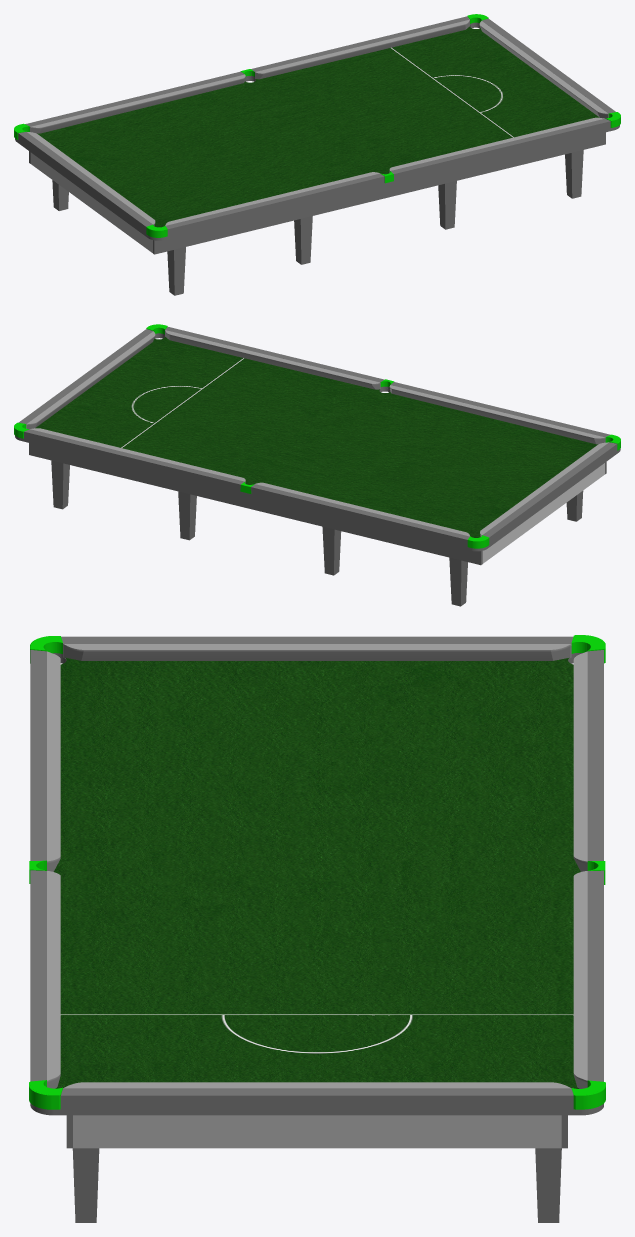
File: table.fbx
The picture shows the model from 3 angles, top to bottom: view 1: azimuth 30°, elevation 25°; view 2: azimuth 150°, elevation 25°; view 3: azimuth 270°, elevation 25°; orthographic projection. The views are drawn at different scales.
Parts seen in each view (by area): view 1: tablesurface, polySurface8, sidewall, polySurface4, holedimmer; view 2: tablesurface, polySurface8, sidewall, polySurface4, holedimmer; view 3: tablesurface, polySurface8, sidewall, polySurface6, holedimmer.
Boxes of the visible parts, x1,y1,x2,y2 form: tablesurface: (37, 25, 599, 227); polySurface8: (15, 16, 619, 295); sidewall: (27, 19, 608, 225); polySurface4: (30, 152, 152, 252); holedimmer: (14, 14, 620, 237); tablesurface: (35, 337, 597, 537); polySurface8: (15, 327, 620, 606); sidewall: (26, 330, 608, 536); polySurface4: (482, 463, 604, 563); holedimmer: (14, 324, 620, 548); tablesurface: (54, 657, 580, 1088); polySurface8: (30, 636, 603, 1222); sidewall: (47, 644, 587, 1088); polySurface6: (73, 1115, 561, 1148); holedimmer: (29, 635, 605, 1109).
Size of the model in its own units: 14.47 by 2.33 by 7.66.
